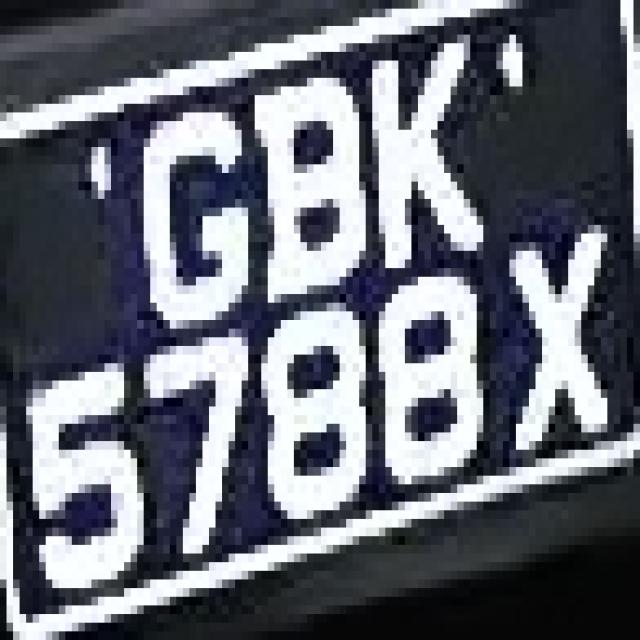5: (6, 354, 170, 606)
7: (124, 311, 268, 571)
8: (360, 250, 510, 502), (248, 286, 385, 536)
B: (242, 69, 359, 303)
G: (98, 78, 248, 320)
K: (353, 35, 496, 268)
X: (496, 216, 640, 493)
